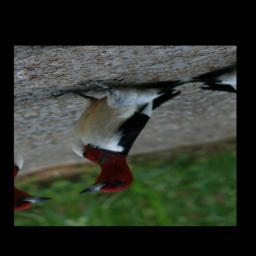Woodpecker: (31, 63, 226, 200)
